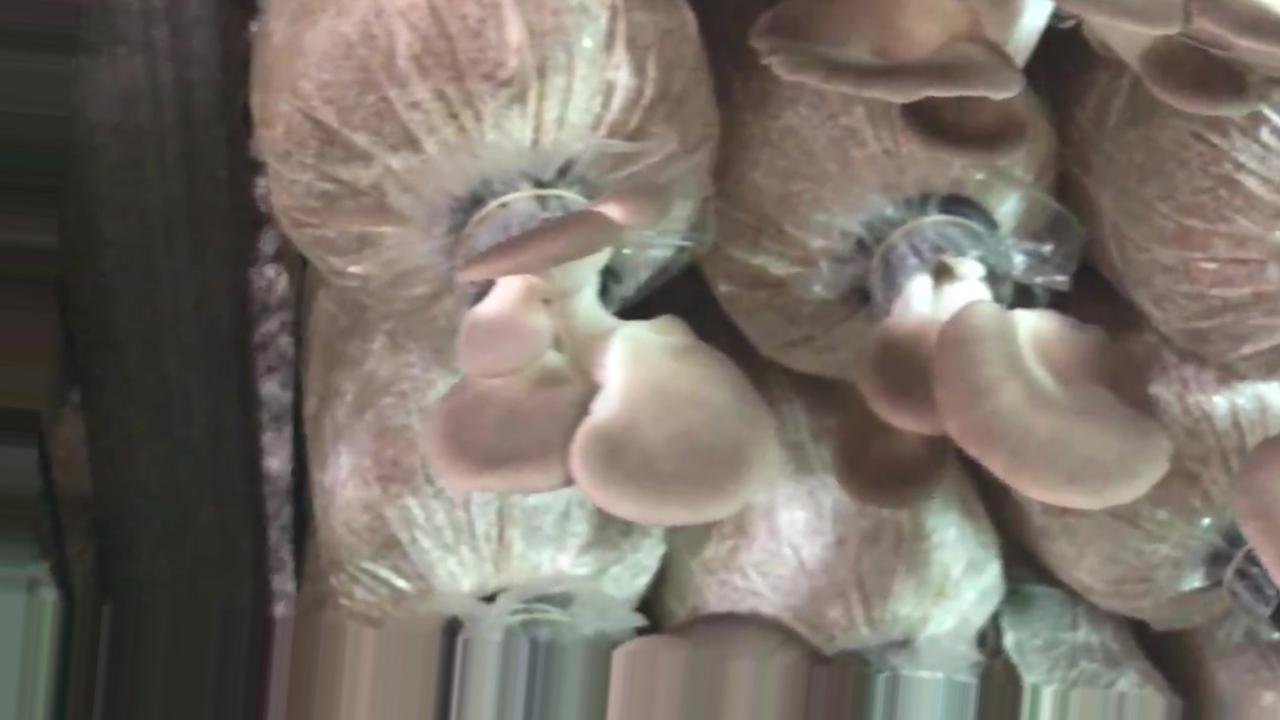nam: (423, 193, 775, 531), (830, 198, 1174, 510), (759, 3, 1020, 121)
